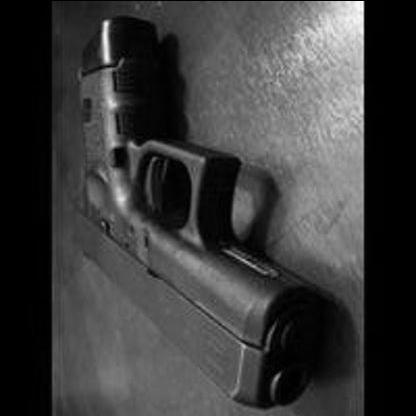weapon: (63, 13, 332, 410)
